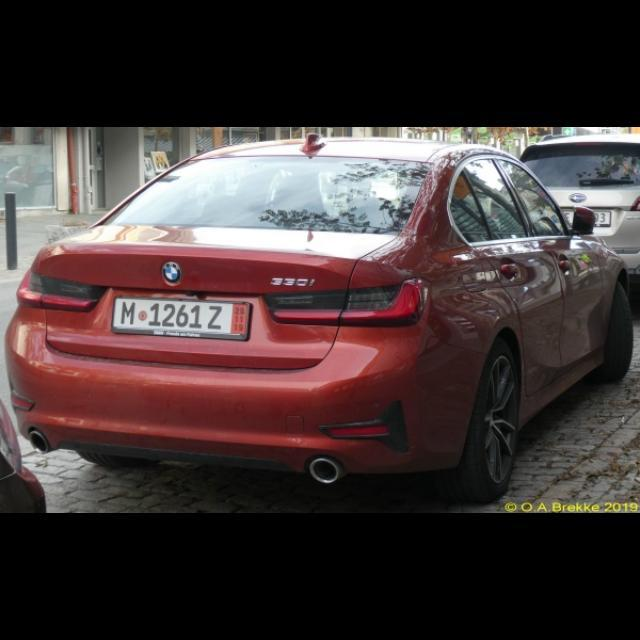license-plates: (112, 298, 248, 340)
